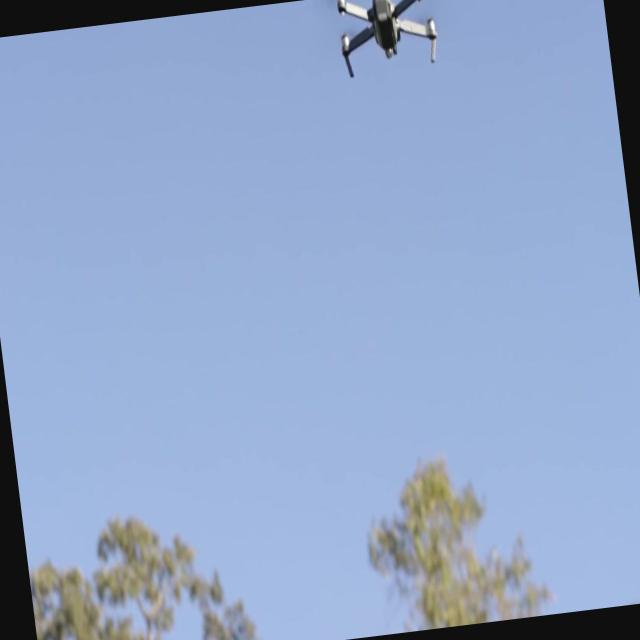drone: (322, 0, 446, 83)
